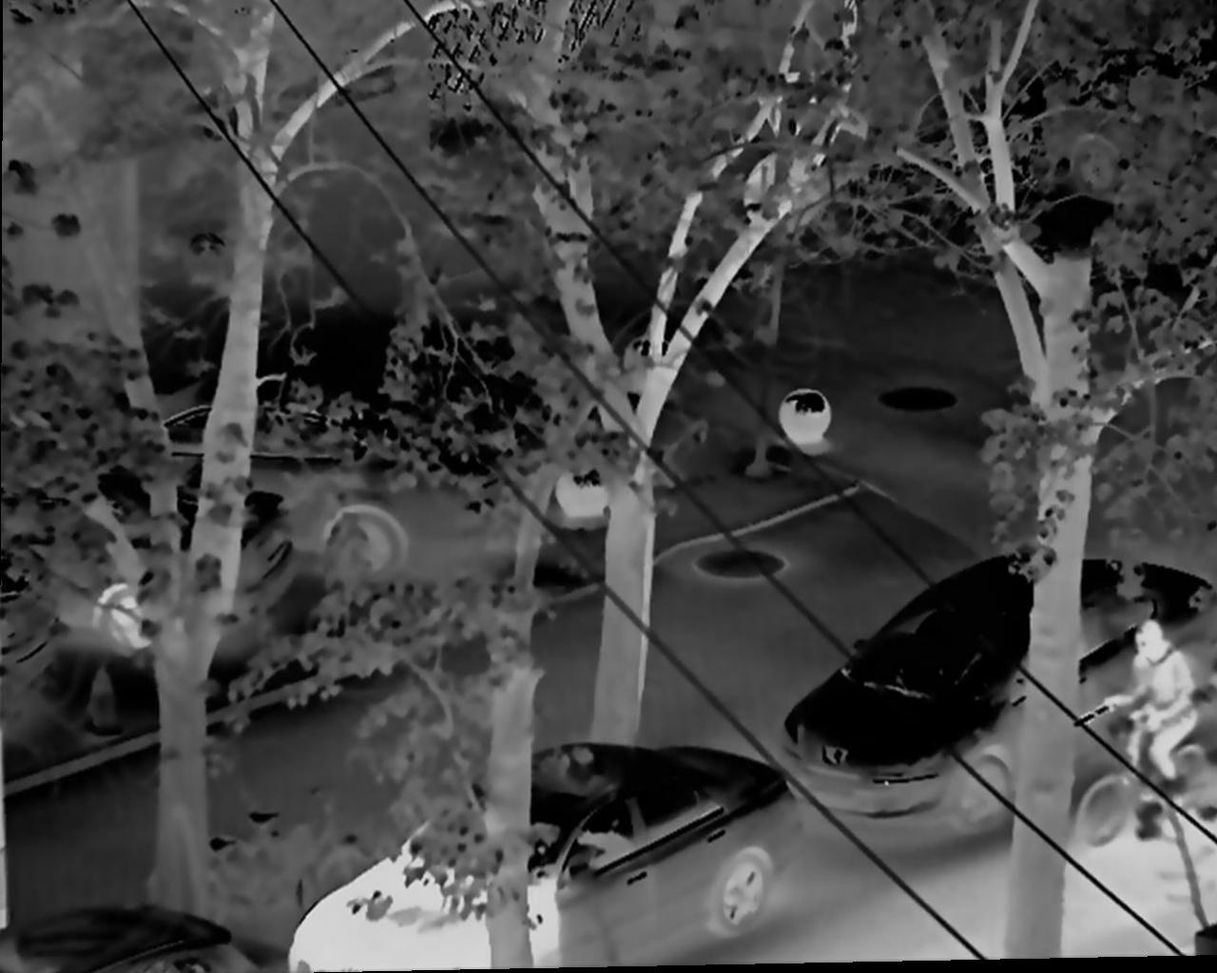person: (1086, 617, 1205, 800)
